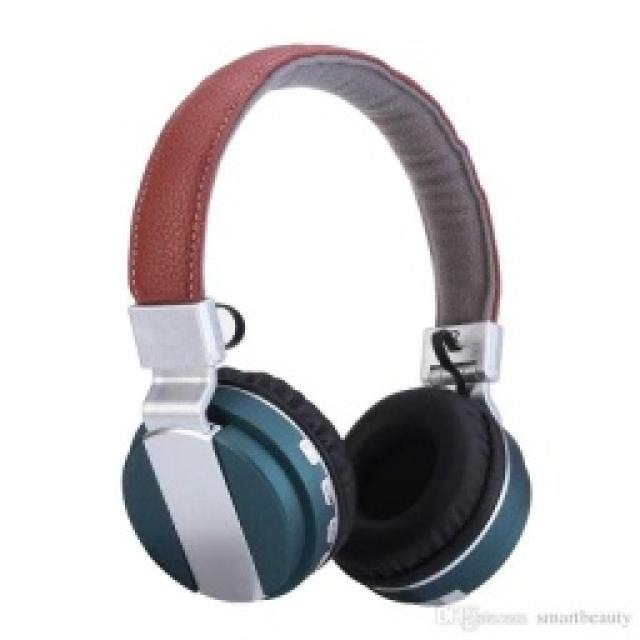headphones: (120, 40, 530, 605)
